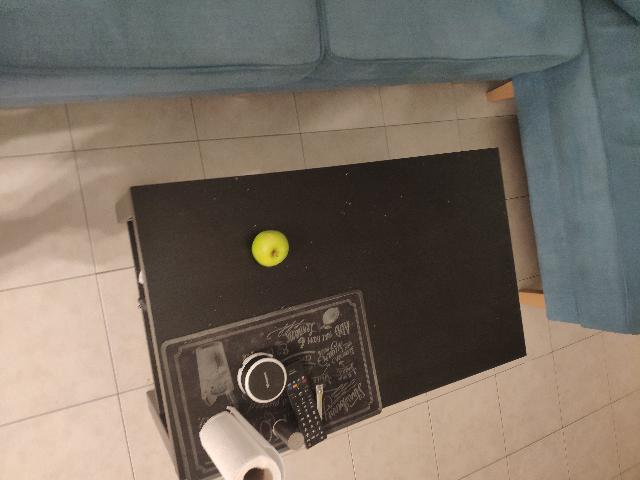apple: (361, 331, 446, 446)
